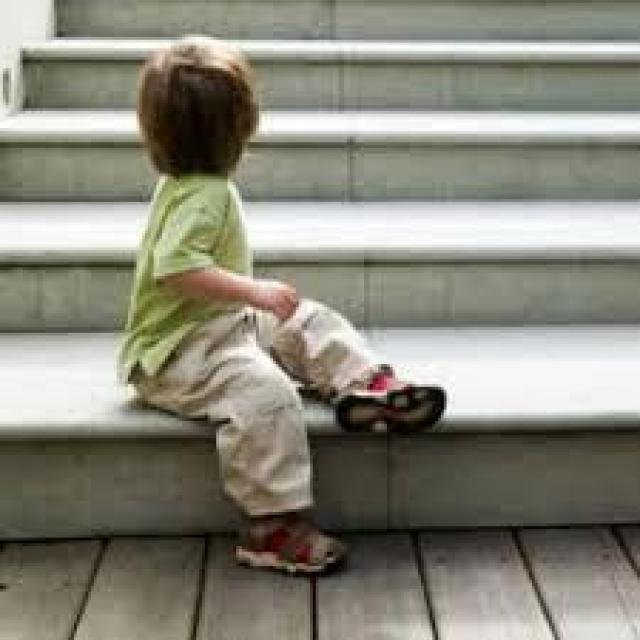child: (119, 26, 458, 574)
